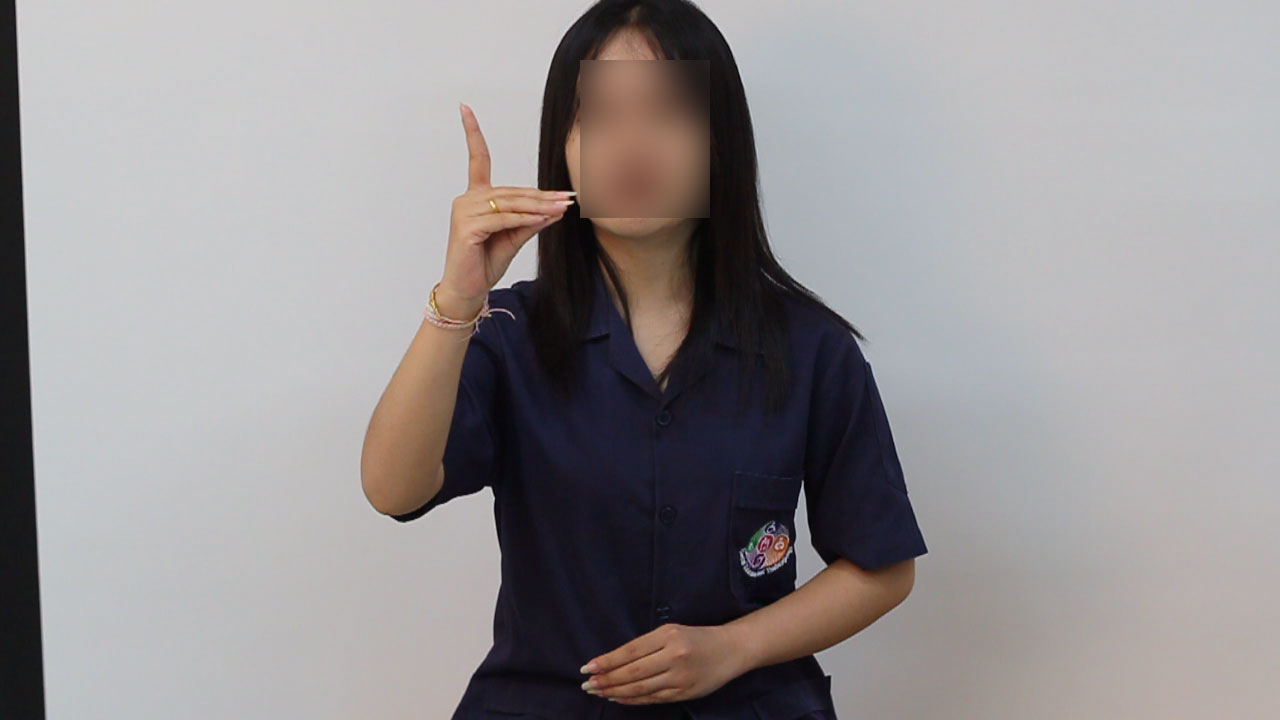dor: (440, 98, 585, 314)
